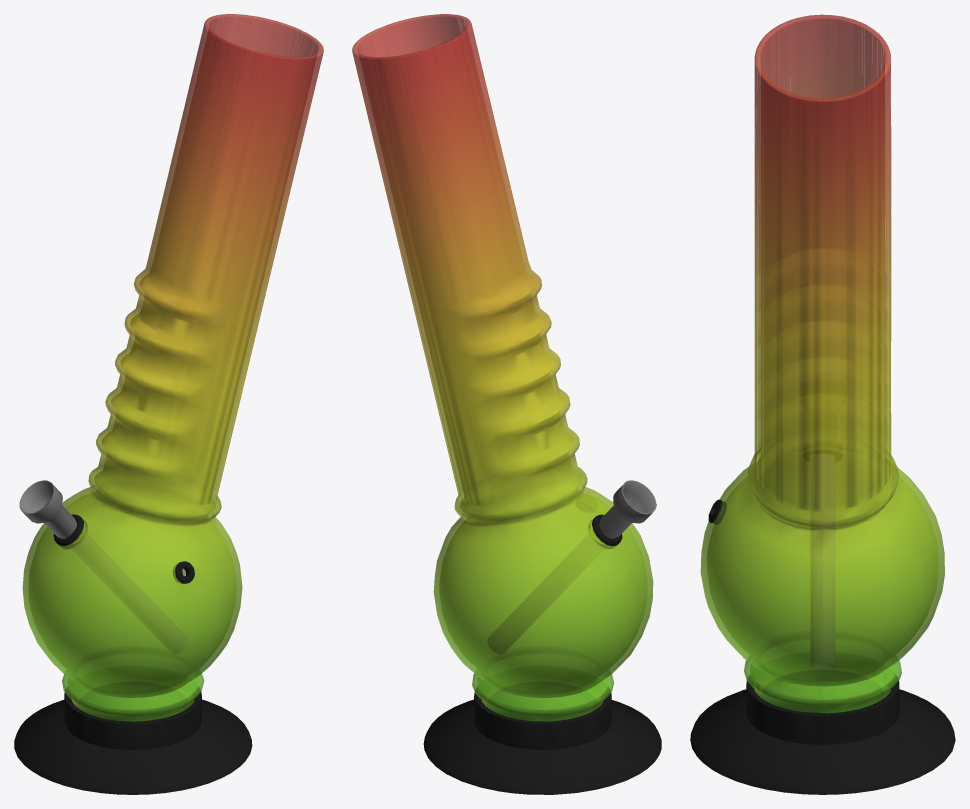
File: bong.glb
3 renders of one model, left to right at view 1: azimuth 30°, elevation 25°; view 2: azimuth 150°, elevation 25°; view 3: azimuth 270°, elevation 25°, orthographic. The views are drawn at different scales.
Parts seen in each view (by area): view 1: tube.003_0; view 2: tube.003_0; view 3: tube.003_0.
Part boxes in pixels (bbox=[...]): tube.003_0: bbox=[14, 14, 323, 794]; tube.003_0: bbox=[352, 14, 661, 794]; tube.003_0: bbox=[690, 14, 955, 794].
Size of the model in its own units: 0.1381 by 0.3115 by 0.0974.
2 materials, 2 textured.
